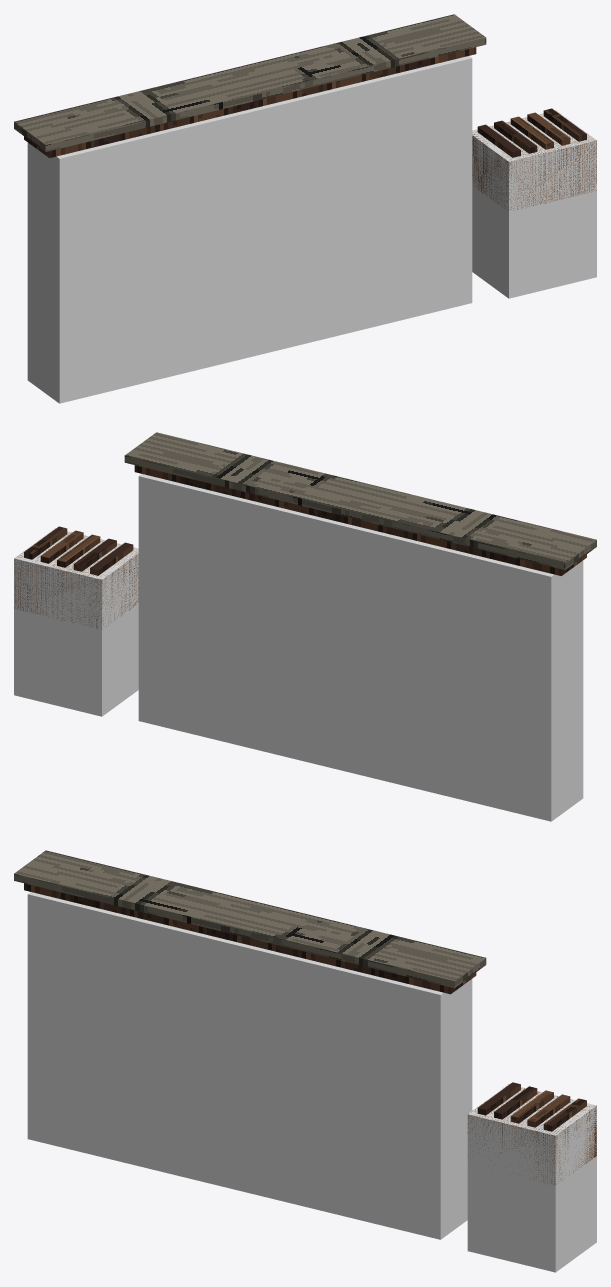
Rendered from JP_Temple_OmikujiRack_A.glb.
3 renders of one model, top to bottom at view 1: azimuth 30°, elevation 25°; view 2: azimuth 150°, elevation 25°; view 3: azimuth 330°, elevation 25°, orthographic.
Parts seen in each view (by area): view 1: COL_JP_Temple_OmikujiRack_A, JP_Temple_OmikujiRack_A, COL_JP_Temple_OmikujiRack_A_Box; view 2: COL_JP_Temple_OmikujiRack_A, JP_Temple_OmikujiRack_A, COL_JP_Temple_OmikujiRack_A_Box; view 3: COL_JP_Temple_OmikujiRack_A, JP_Temple_OmikujiRack_A, COL_JP_Temple_OmikujiRack_A_Box.
Boxes of the visible parts, x1,y1,x2,y2 form: COL_JP_Temple_OmikujiRack_A: (27,56,472,403); JP_Temple_OmikujiRack_A: (14,14,596,210); COL_JP_Temple_OmikujiRack_A_Box: (472,110,596,298); COL_JP_Temple_OmikujiRack_A: (138,474,583,821); JP_Temple_OmikujiRack_A: (14,432,596,629); COL_JP_Temple_OmikujiRack_A_Box: (14,528,138,716); COL_JP_Temple_OmikujiRack_A: (27,892,472,1239); JP_Temple_OmikujiRack_A: (14,850,596,1185); COL_JP_Temple_OmikujiRack_A_Box: (467,1084,596,1272).
Bounding box in the file's own units: 3.97 × 1.82 × 0.52.
6 materials, 6 textured.
